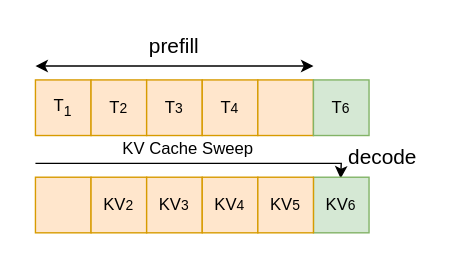
The diagram is 449 pixels wide and 257 high, and some of its shapes have lost their labels. Each missing label, with the box of its shape:
KV 1: (34, 176, 91, 233)
T 5: (256, 79, 313, 136)
